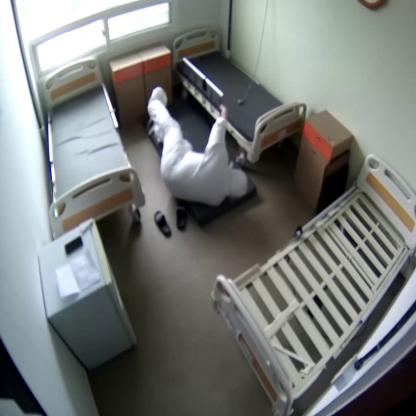Bed: (209, 153, 415, 415)
Person: (148, 88, 248, 206)
